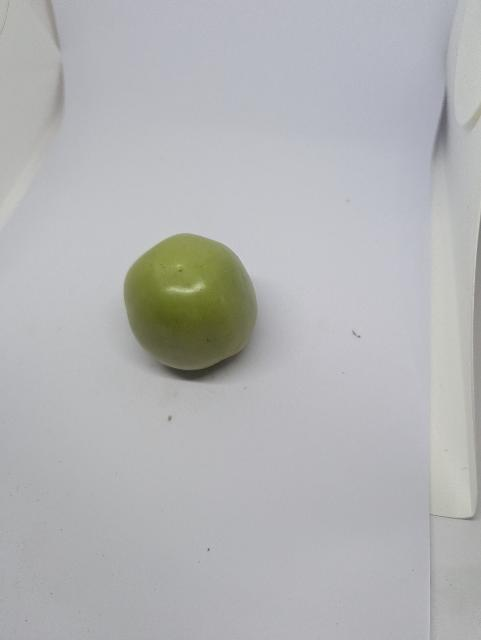green: (122, 225, 269, 380)
